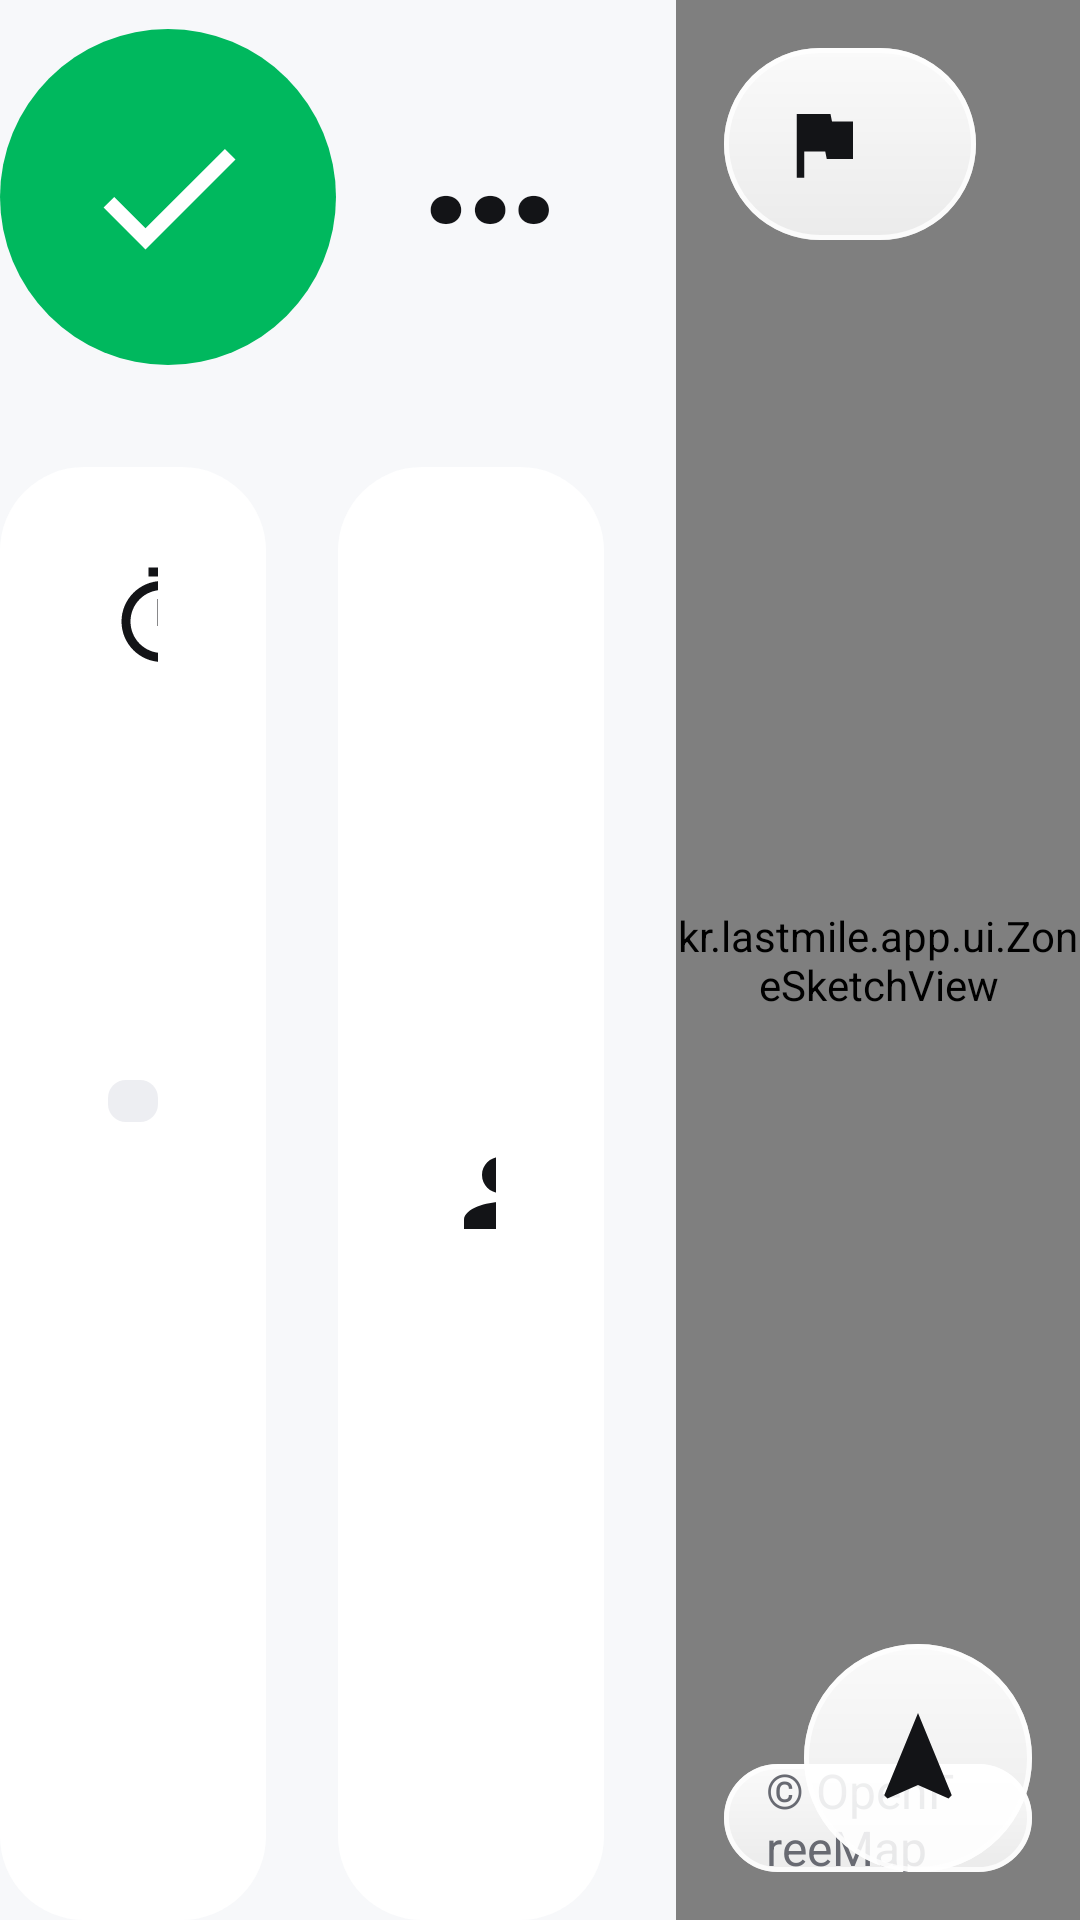

Screen size 1080px×1920px. Icon name, then its center in pixels as [x,y]:
check: [169,199]
flag: [824,146]
현재 위치로: [918,1758]
